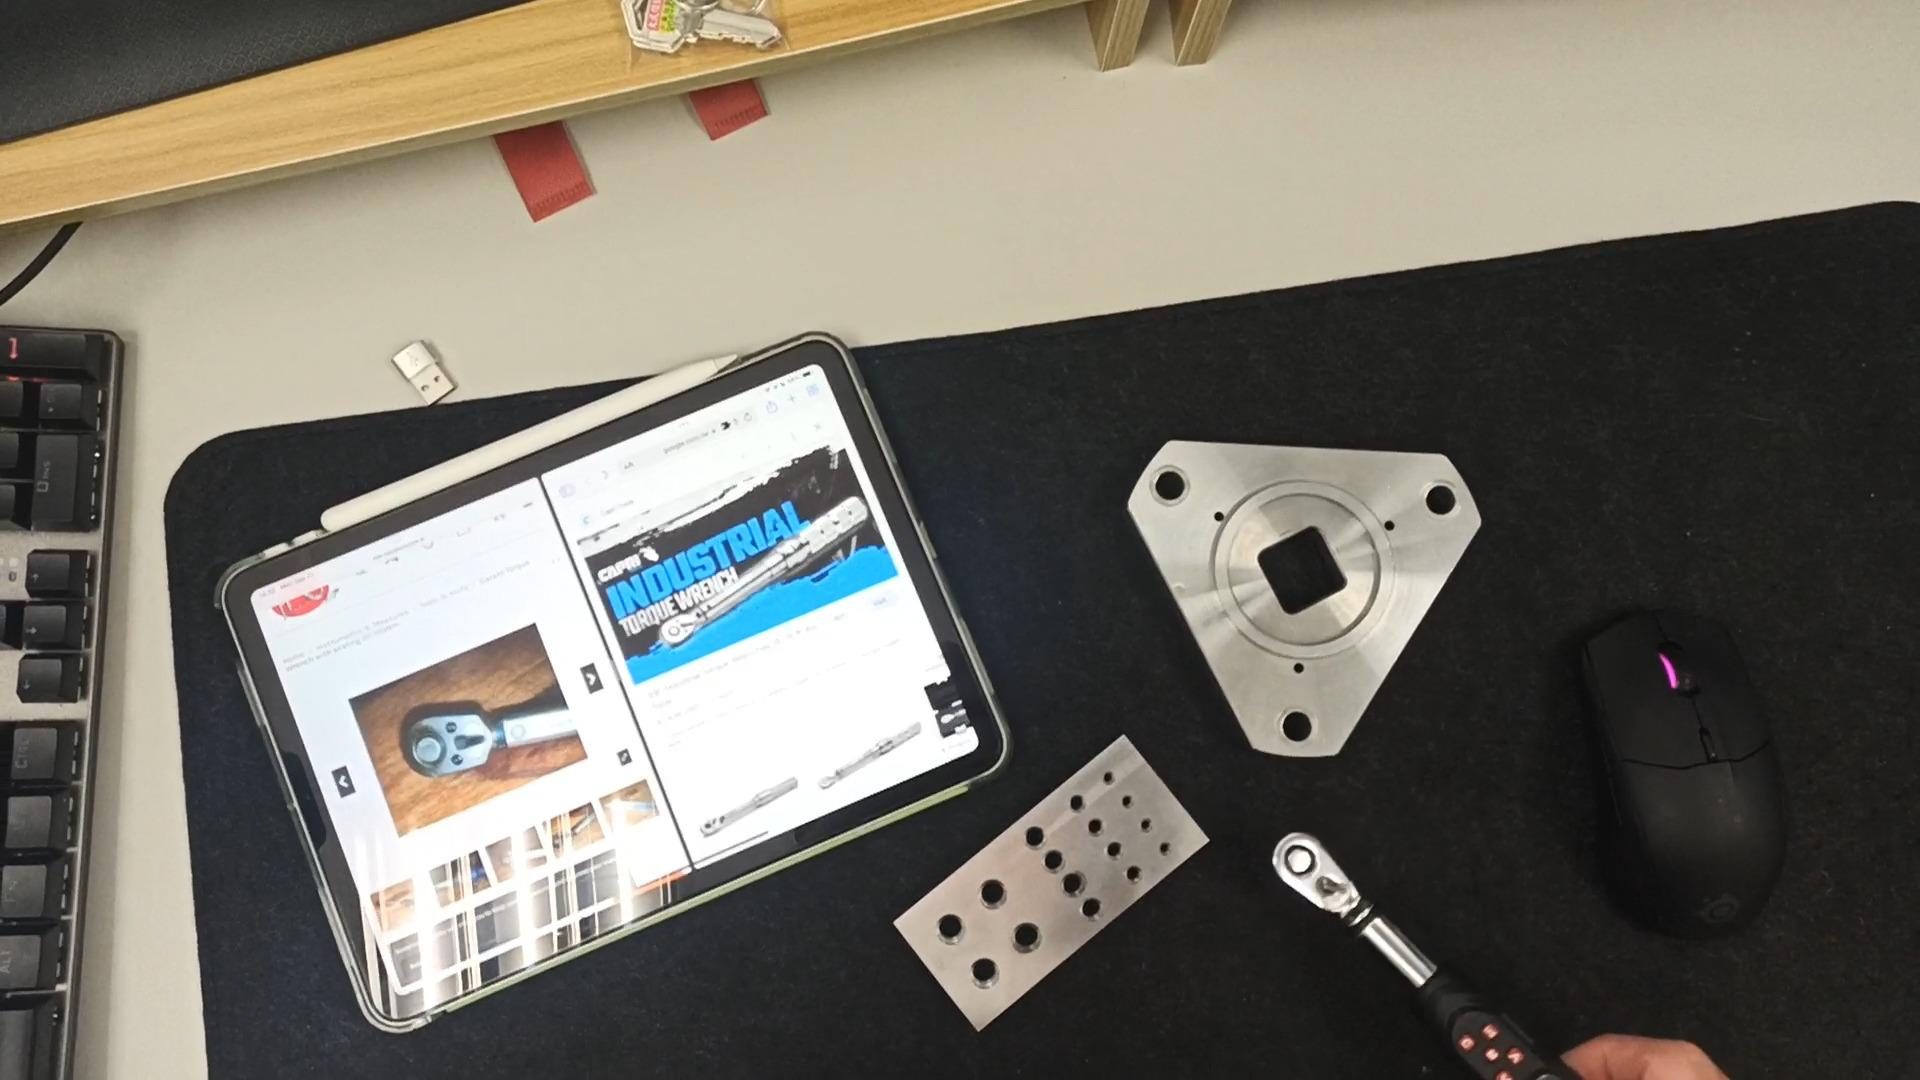hole: (1255, 704, 1328, 751), (1146, 458, 1201, 517), (940, 954, 1004, 994), (1412, 476, 1469, 520), (911, 910, 968, 948), (950, 878, 1005, 916), (996, 920, 1052, 957), (1045, 872, 1093, 900), (1003, 828, 1049, 855), (1069, 900, 1115, 927), (1024, 851, 1068, 876), (1079, 809, 1109, 844), (1089, 764, 1130, 786), (1050, 791, 1088, 814), (1111, 869, 1149, 890), (1094, 844, 1129, 864), (1116, 788, 1140, 817), (1144, 842, 1177, 861)
